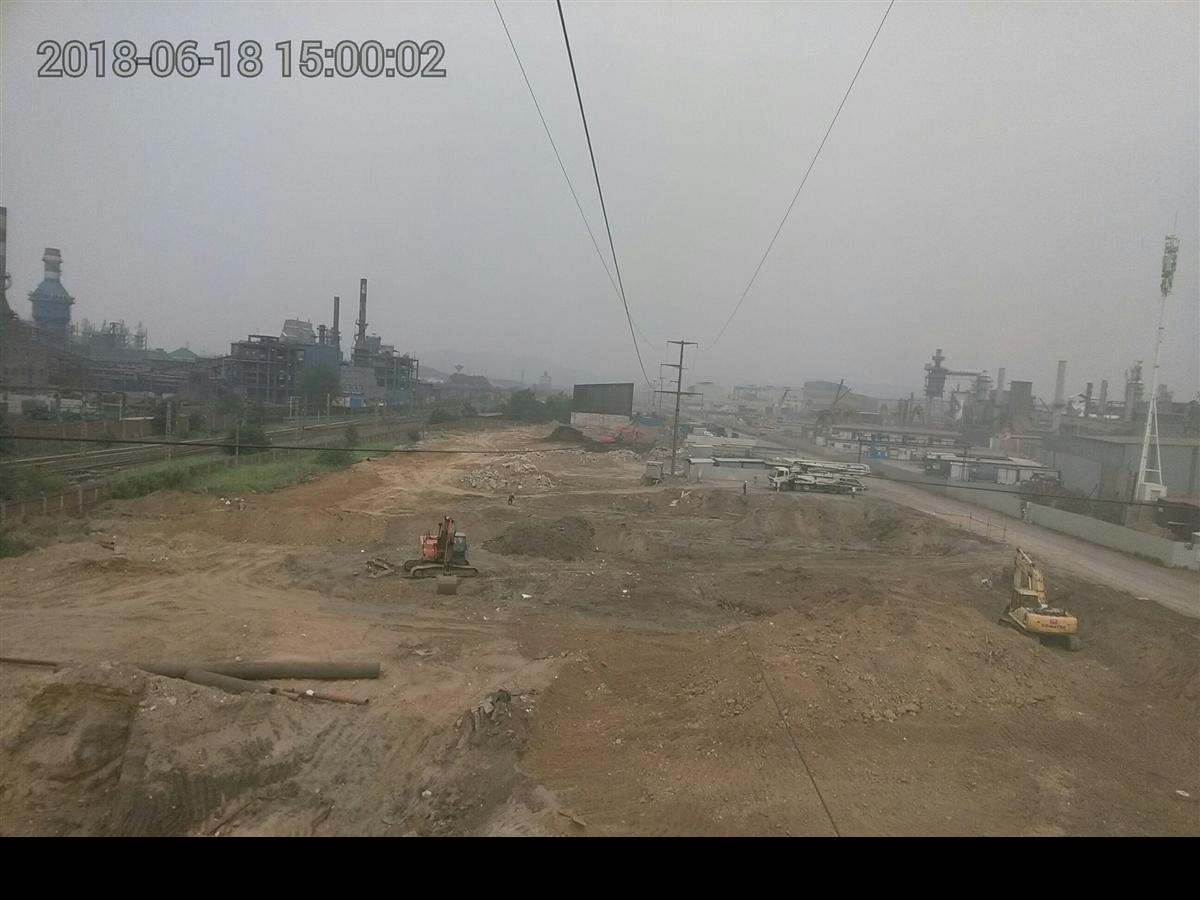DiaoChe: (767, 453, 869, 494)
ShiGongJiXie: (988, 544, 1095, 651), (391, 512, 495, 598)
